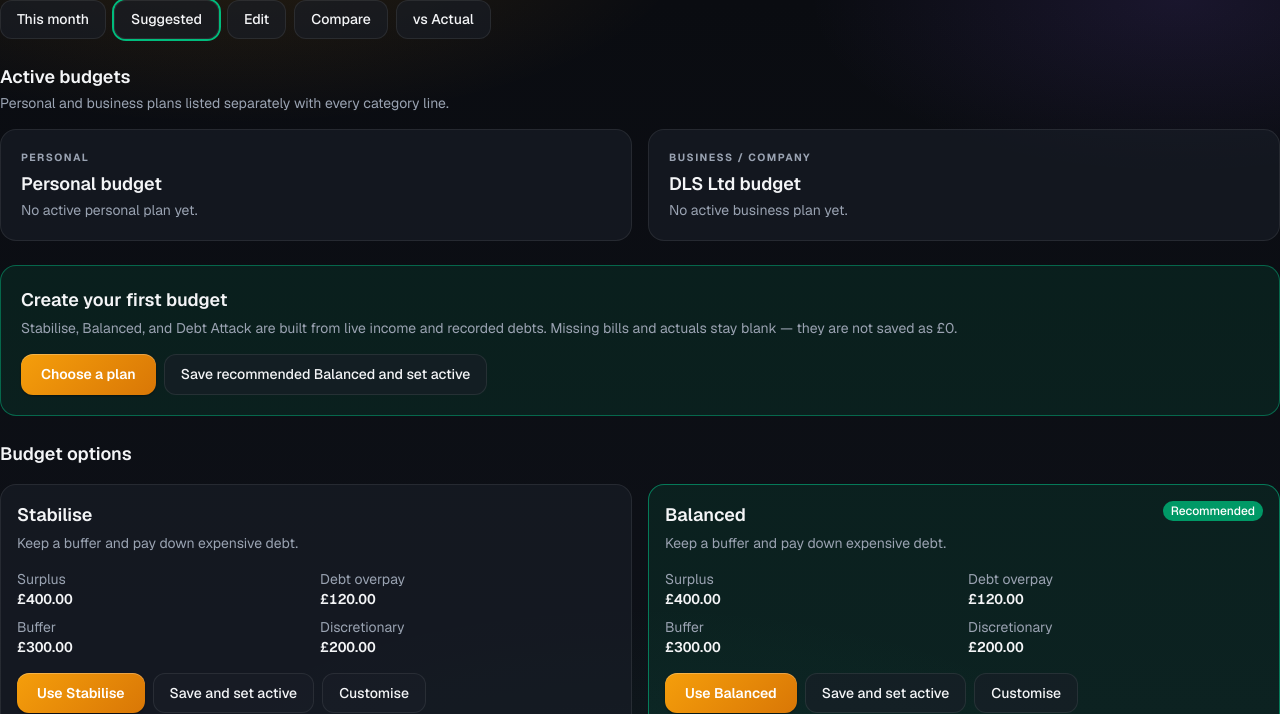
Test: BudgetStudio › offers the first-time Stabilise / Balanced / Debt Attack flow
The width and height of the screenshot is (1280, 714).
Expected: the heading "Create your first budget" is shown, top-left (21, 288), bottom-right (227, 311)
Expected: the heading "Active budgets" is shown, top-left (0, 65), bottom-right (130, 88)
Step 1. Click the button "Save recommended Balanced and set active" → click(326, 374), box top-left (164, 354), bottom-right (488, 395)
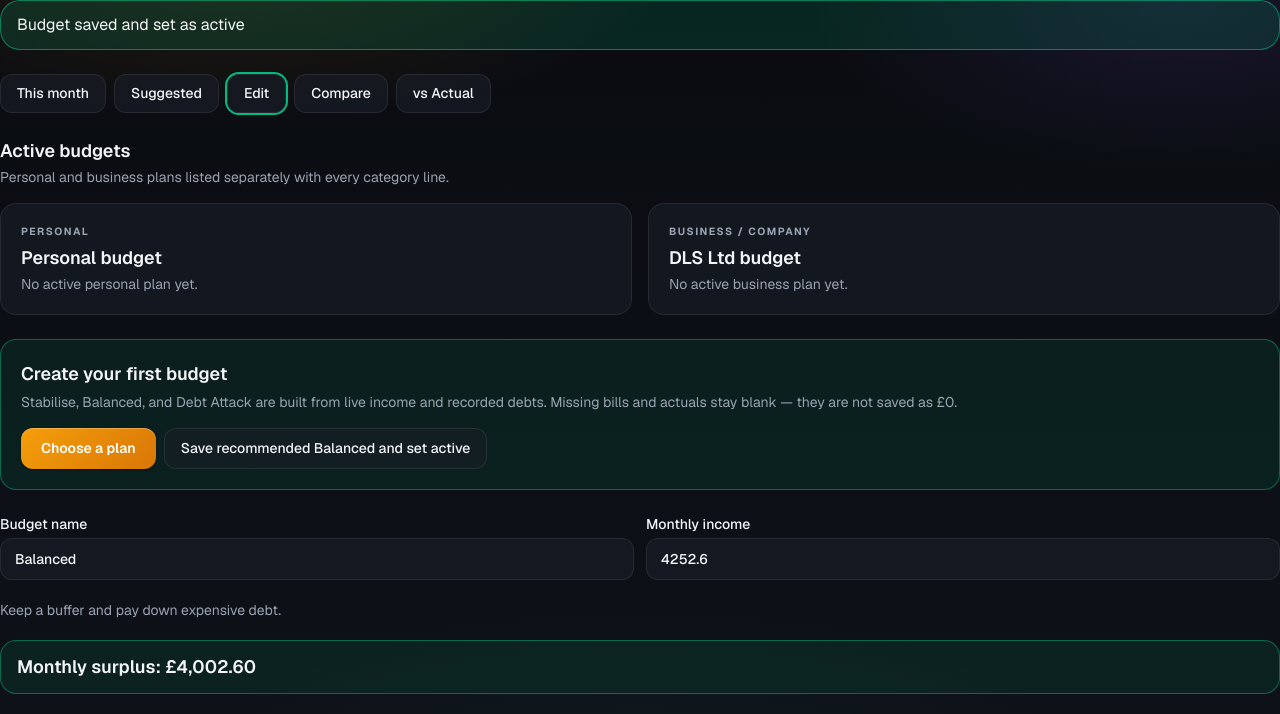
Expected: the text "Budget saved and set as active" is shown, top-left (17, 13), bottom-right (245, 37)
